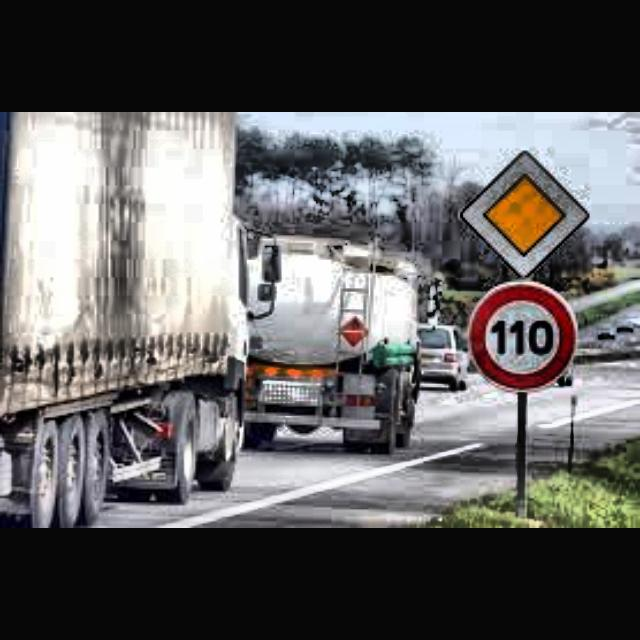speed_110: (467, 281, 579, 391)
